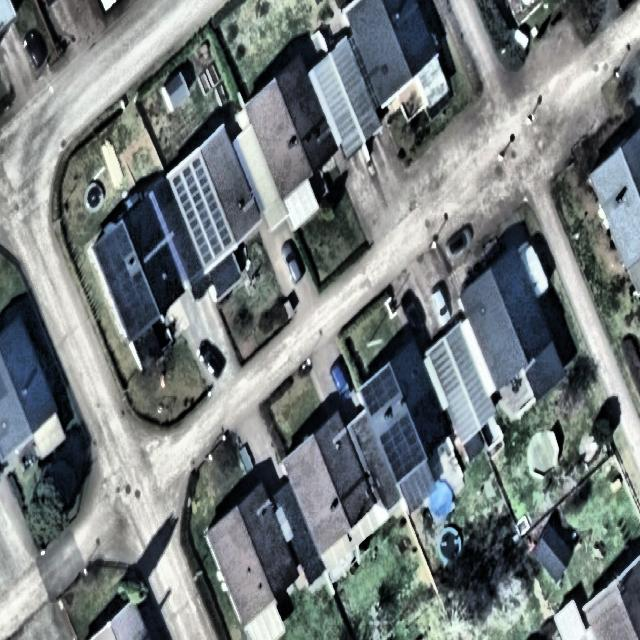roof_pv: (101, 276, 160, 336), (377, 414, 426, 480), (358, 365, 403, 412), (169, 154, 220, 195), (184, 229, 233, 267), (174, 195, 229, 228), (94, 227, 136, 256), (98, 257, 127, 274)
